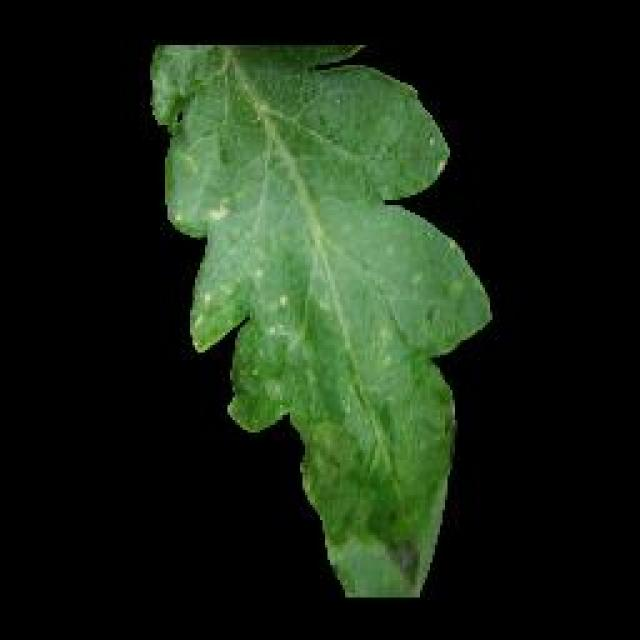Tomato Late Blight: (200, 182, 470, 470)
